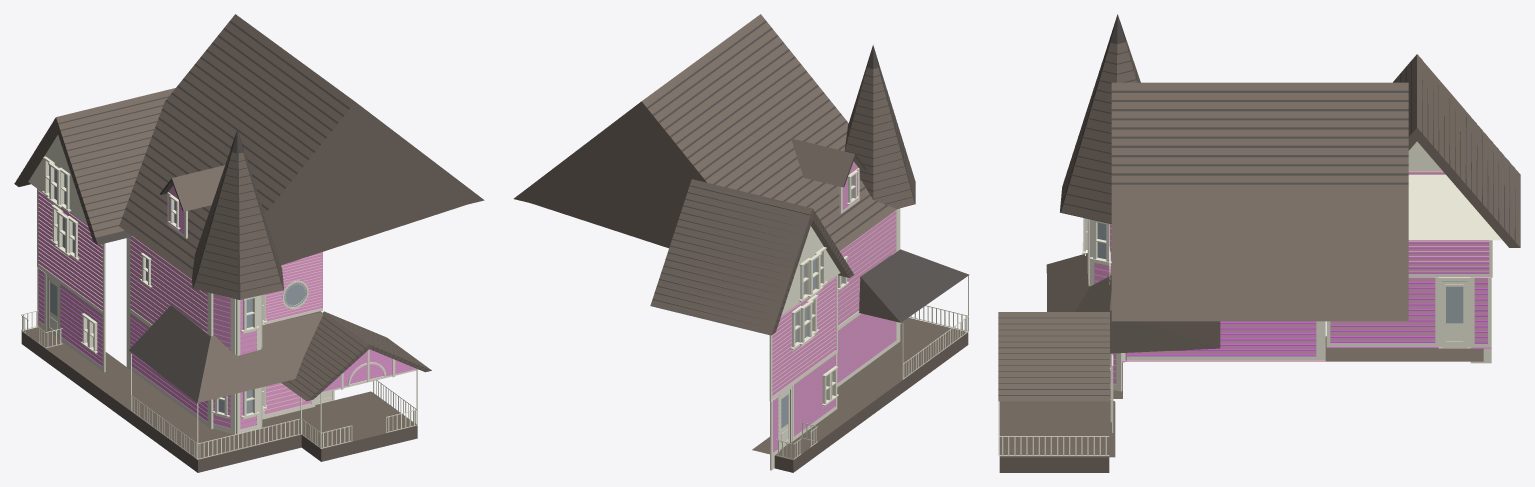
File: mitadprimera.obj
3 views of the same model, side by side, from view 1: azimuth 30°, elevation 25°; view 2: azimuth 150°, elevation 25°; view 3: azimuth 270°, elevation 25° (orthographic). The views are drawn at different scales.
Parts seen in each view (by area): view 1: Plane.045, Plane.044, Plane.051, Plane.165, Plane.043, Plane.040, Plane.173, Plane.172, Plane.042, Plane.091_Plane.085, Plane.166, Plane.038 (+12 smaller); view 2: Plane.045, Plane.044, Plane.043, Plane.165, Plane.040, Plane.051, Plane.042, Plane.038, Plane.046, Plane.061_Plane.096, Plane.048, Plane.037 (+2 smaller); view 3: Plane.045, Plane.044, Plane.172, Plane.173, Plane.165, Plane.051, Plane.040, Plane.038, Plane.042, Plane.043, Plane.048, Plane.037 (+3 smaller).
Boxes of the visible parts, x1=… form: Plane.045: x1=119, y1=14, x2=484, y2=279; Plane.044: x1=14, y1=88, x2=175, y2=244; Plane.051: x1=129, y1=305, x2=322, y2=402; Plane.165: x1=192, y1=129, x2=283, y2=299; Plane.043: x1=21, y1=326, x2=239, y2=472; Plane.040: x1=126, y1=235, x2=213, y2=429; Plane.173: x1=277, y1=391, x2=417, y2=461; Plane.172: x1=281, y1=311, x2=431, y2=401; Plane.042: x1=37, y1=189, x2=105, y2=315; Plane.091_Plane.085: x1=208, y1=293, x2=262, y2=434; Plane.166: x1=262, y1=252, x2=322, y2=325; Plane.038: x1=59, y1=283, x2=105, y2=372; Plane.045: x1=513, y1=14, x2=897, y2=250; Plane.044: x1=650, y1=179, x2=853, y2=335; Plane.043: x1=752, y1=322, x2=968, y2=472; Plane.165: x1=844, y1=45, x2=915, y2=208; Plane.040: x1=837, y1=208, x2=900, y2=387; Plane.051: x1=859, y1=249, x2=969, y2=322; Plane.042: x1=769, y1=275, x2=837, y2=401; Plane.038: x1=792, y1=353, x2=837, y2=441; Plane.046: x1=791, y1=138, x2=866, y2=187; Plane.061_Plane.096: x1=903, y1=316, x2=968, y2=379; Plane.048: x1=780, y1=386, x2=791, y2=450; Plane.037: x1=770, y1=395, x2=779, y2=470; Plane.045: x1=1111, y1=82, x2=1408, y2=321; Plane.044: x1=1393, y1=54, x2=1520, y2=247; Plane.172: x1=998, y1=312, x2=1109, y2=401; Plane.173: x1=999, y1=399, x2=1115, y2=472; Plane.165: x1=1060, y1=14, x2=1140, y2=223; Plane.051: x1=1046, y1=253, x2=1220, y2=353; Plane.040: x1=1122, y1=321, x2=1325, y2=361; Plane.038: x1=1326, y1=277, x2=1438, y2=347; Plane.042: x1=1408, y1=171, x2=1492, y2=277; Plane.043: x1=1127, y1=336, x2=1483, y2=361; Plane.048: x1=1438, y1=277, x2=1470, y2=348; Plane.037: x1=1470, y1=278, x2=1491, y2=363.
Bounding box in the file's own units: 5.13 × 4.8 × 5.98.
9 materials, 9 textured.
